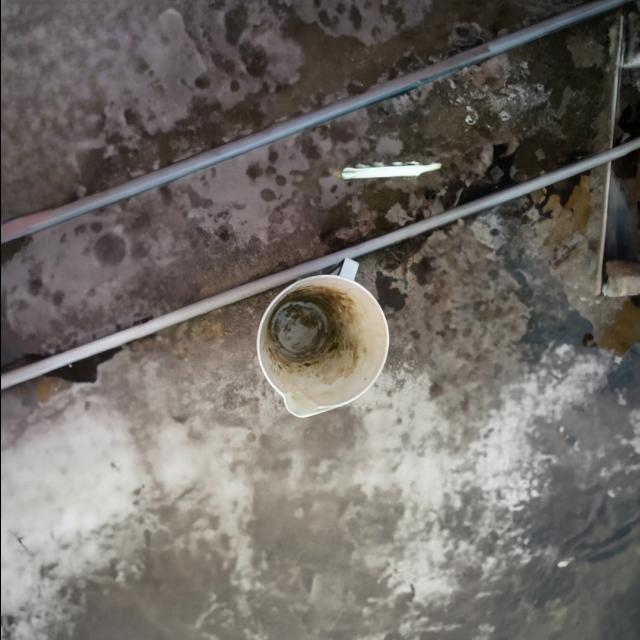Breeding Place: (228, 241, 416, 443)
